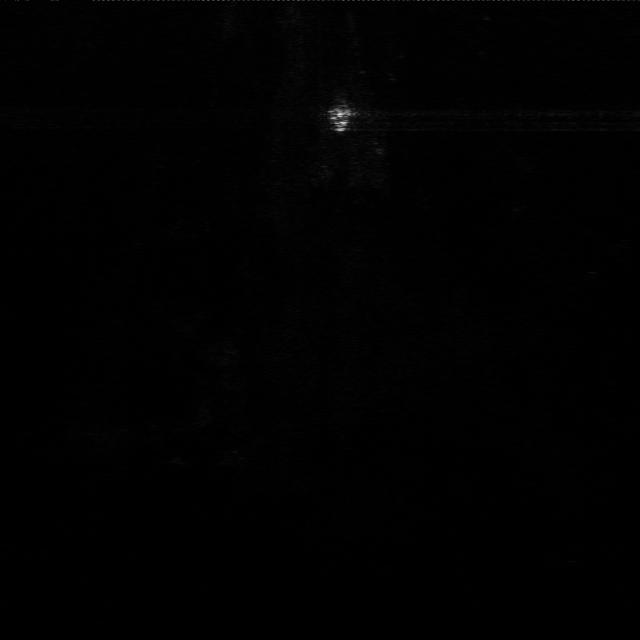rov: (322, 104, 357, 134)
